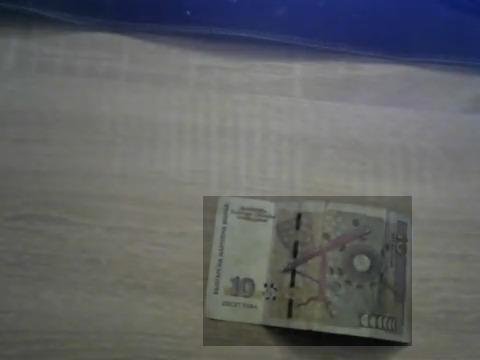10leva: (203, 196, 412, 346)
